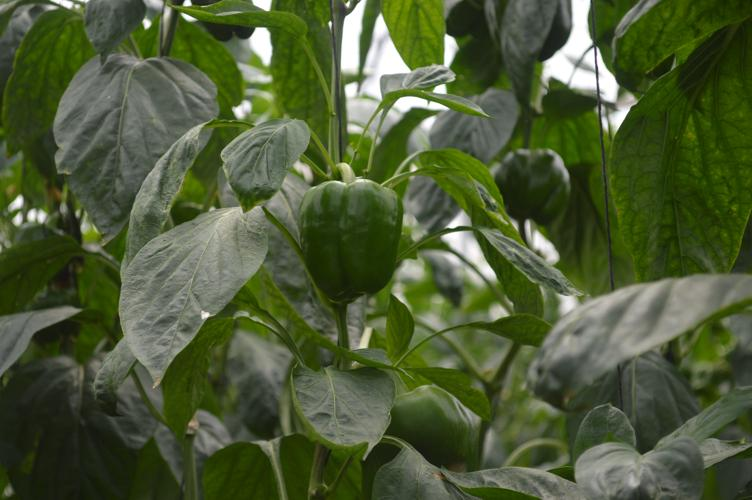BellPepper: (293, 178, 404, 299), (385, 385, 476, 466), (490, 151, 573, 229)
